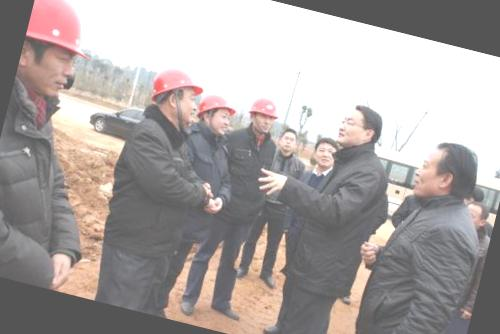no_helmet: (410, 132, 486, 210), (330, 97, 389, 158), (306, 130, 344, 174), (457, 197, 490, 236), (273, 123, 301, 158)
